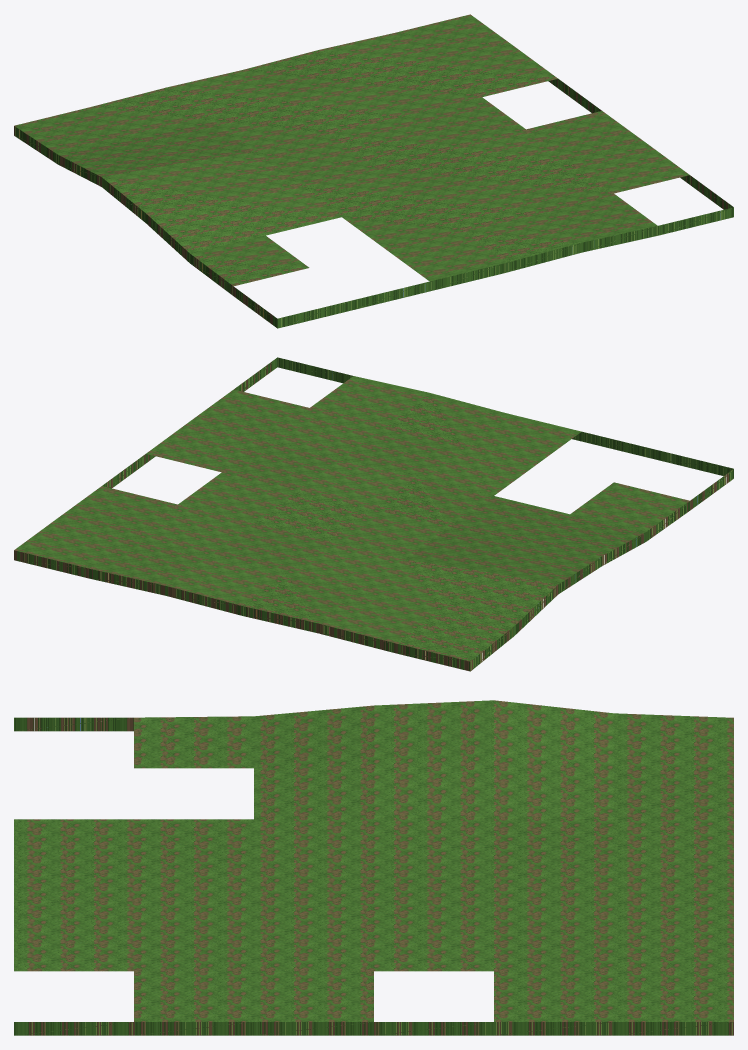
Rendered from rv_terrain_30_lod3.gltf.
3 renders of one model, top to bottom at view 1: azimuth 30°, elevation 25°; view 2: azimuth 150°, elevation 25°; view 3: azimuth 270°, elevation 25°, orthographic. The views are drawn at different scales.
Visible parts, largest first — view 1: RV_Terrain_30_lod3; view 2: RV_Terrain_30_lod3; view 3: RV_Terrain_30_lod3.
Part boxes in pixels (x1,y1,x2,y2): RV_Terrain_30_lod3: (14,14,733,328); RV_Terrain_30_lod3: (14,357,733,671); RV_Terrain_30_lod3: (14,700,733,1035).
Size of the model in its own units: 72 by 3.43 by 72.
Materials: 2 (1 with a texture image).
